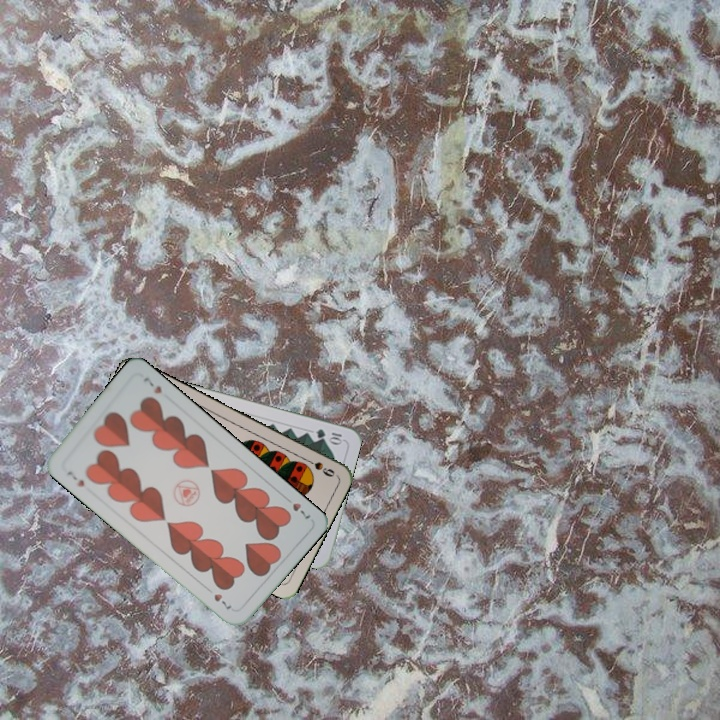G10: (311, 425, 345, 446)
H7: (280, 492, 314, 522), (63, 467, 87, 489)
S9: (300, 454, 337, 480)
